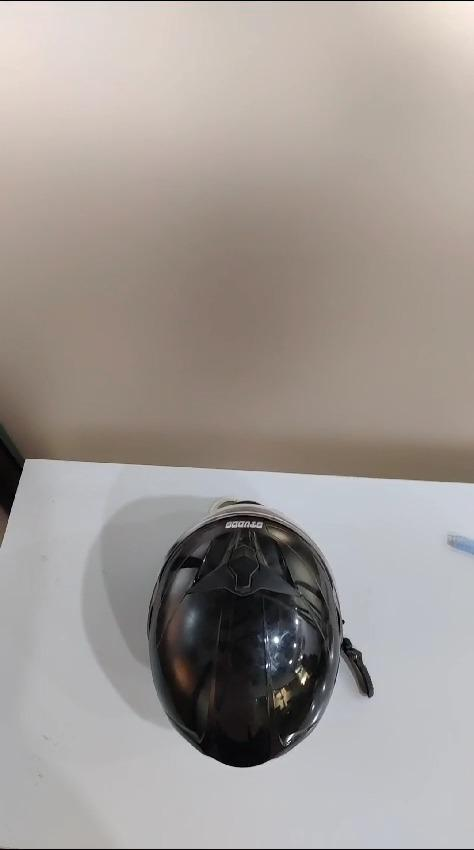Helmet: (138, 500, 343, 783)
